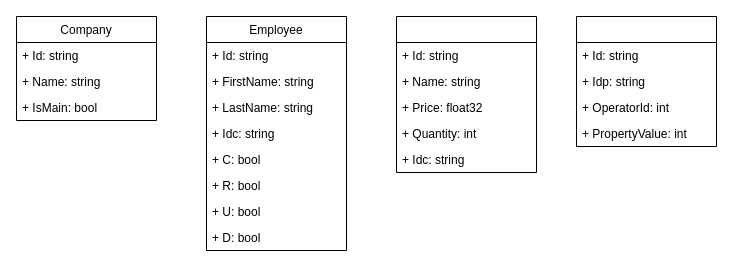
Some shapes in this 733 by 267 pixel diagram are drawn without their labels. Here are the shapes that lost their labels. From the top down, the box of each, then its label:
(396, 16, 536, 172): Product
(576, 16, 716, 146): Constraint
